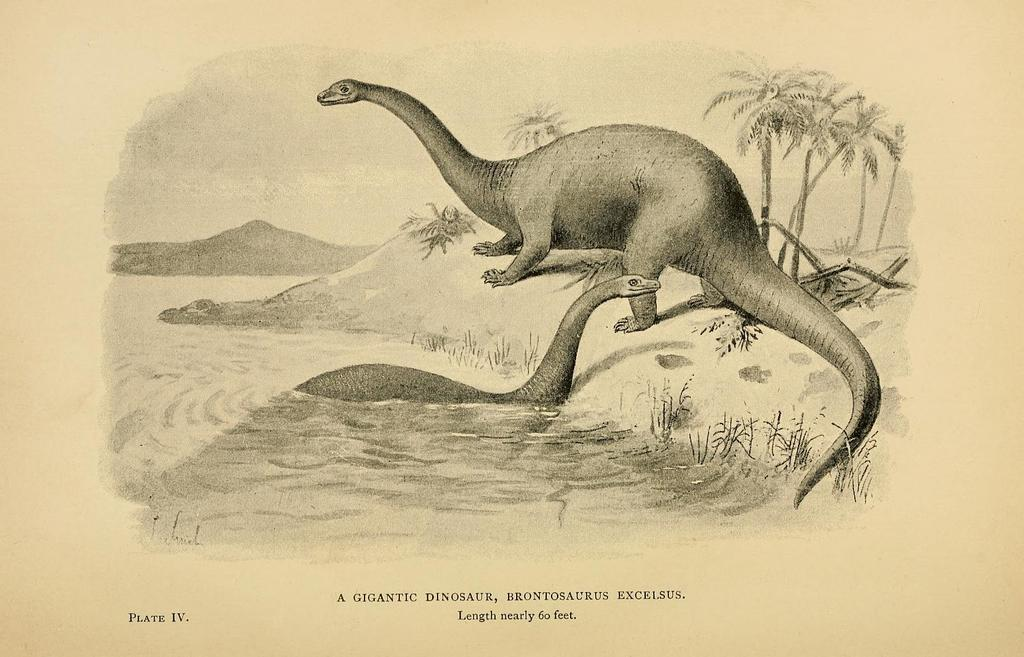Animal: (313, 70, 882, 508), (296, 273, 661, 400)
